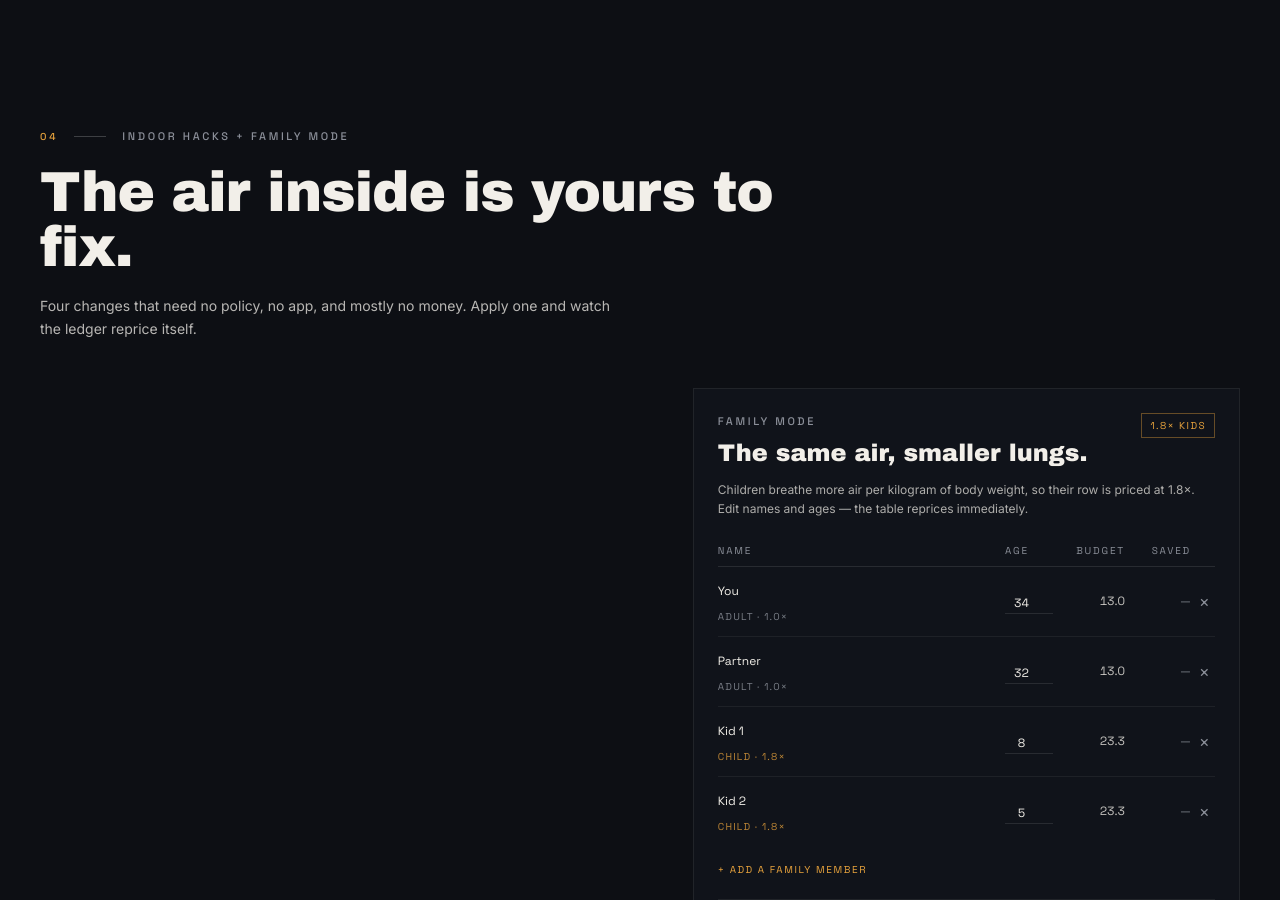
HacksAct › adds a family member
Click the button "+ Add a family member". click: [792, 869]
box: 718,862 -> 867,877
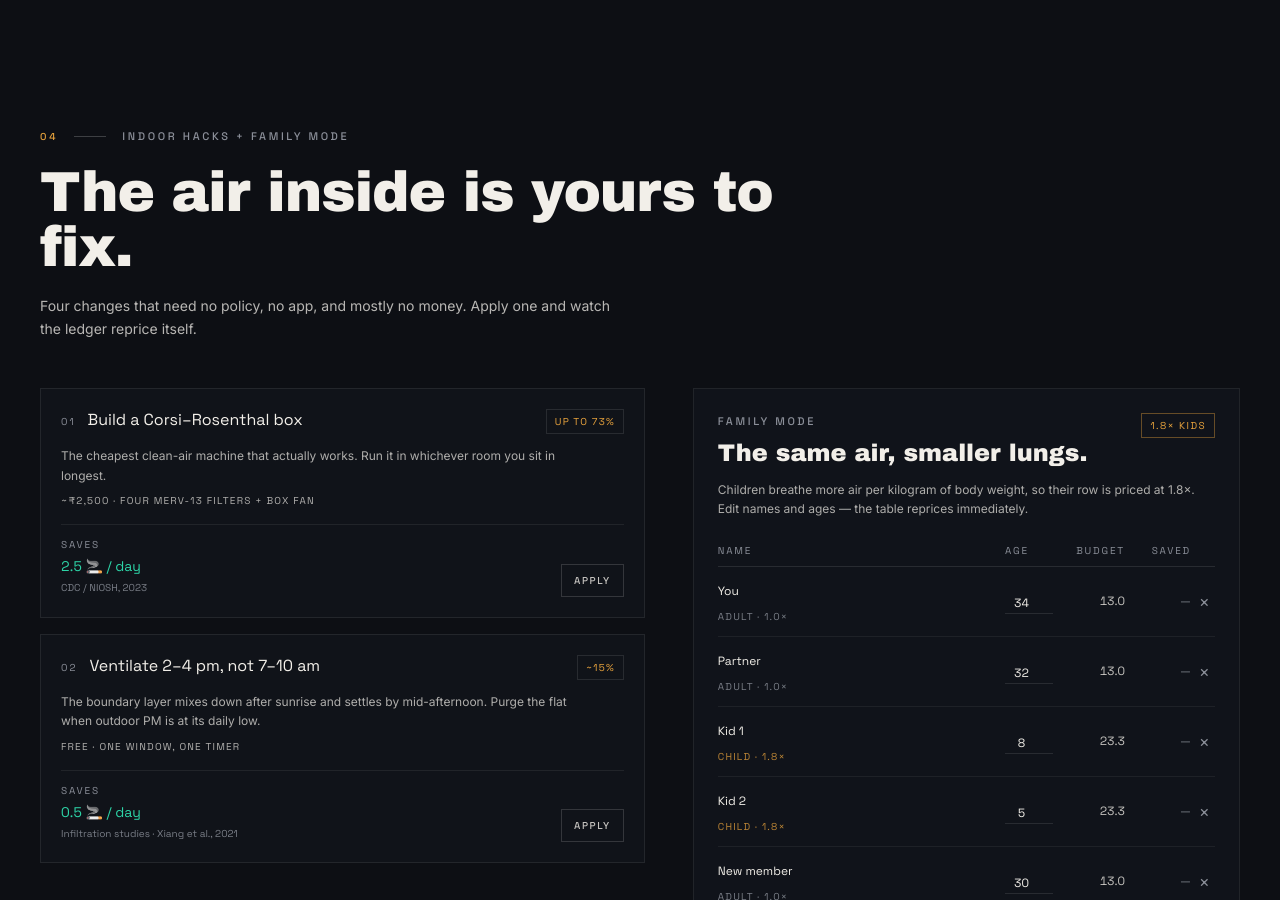
expect the number of fields named "Family member name" is 5: met, box 718,581 -> 997,602; 718,651 -> 997,672; 718,721 -> 997,742; 718,791 -> 997,812; 718,861 -> 997,882
